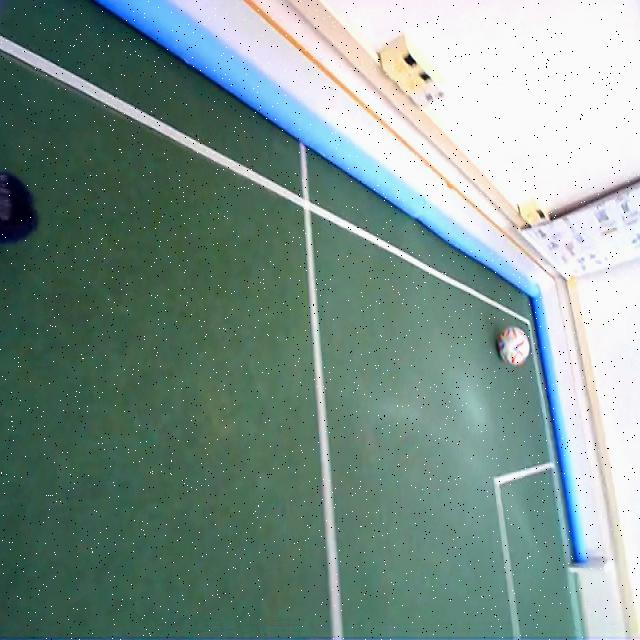ball: (498, 326, 530, 366)
